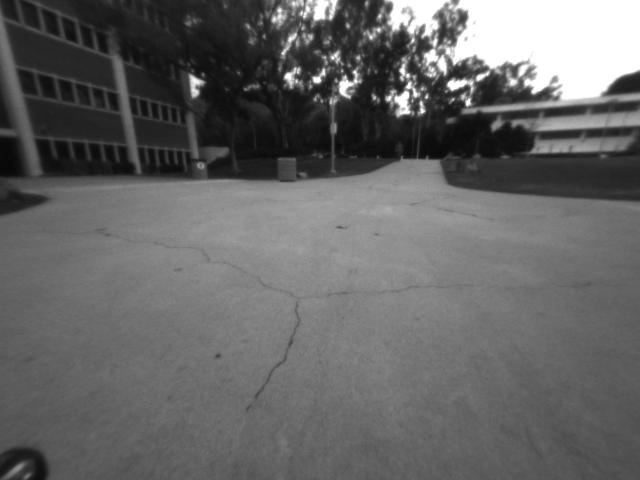trashcan: (277, 159, 301, 183), (193, 160, 211, 181)
